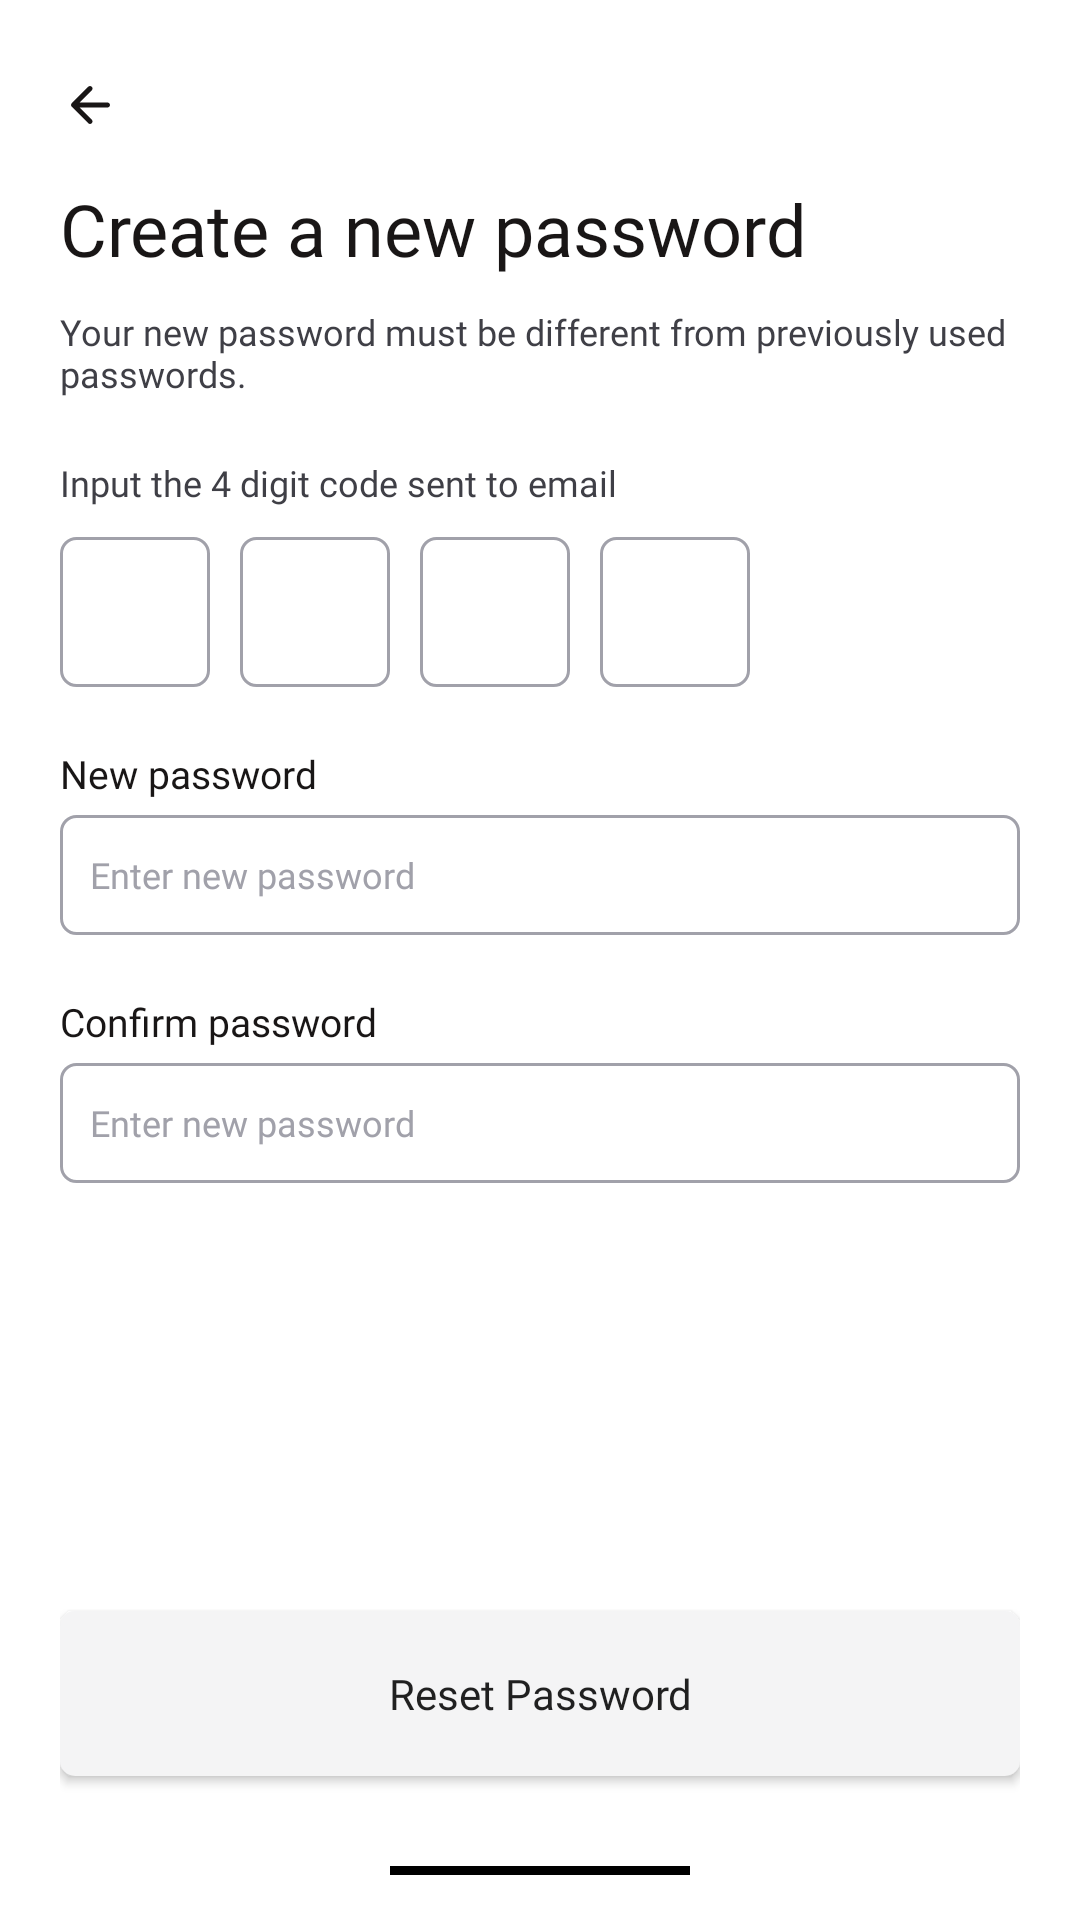

Screen size 1080 × 1920. Icon name, then its center in pixels as (x=x, y=y):
arrow left: (x=90, y=105)
